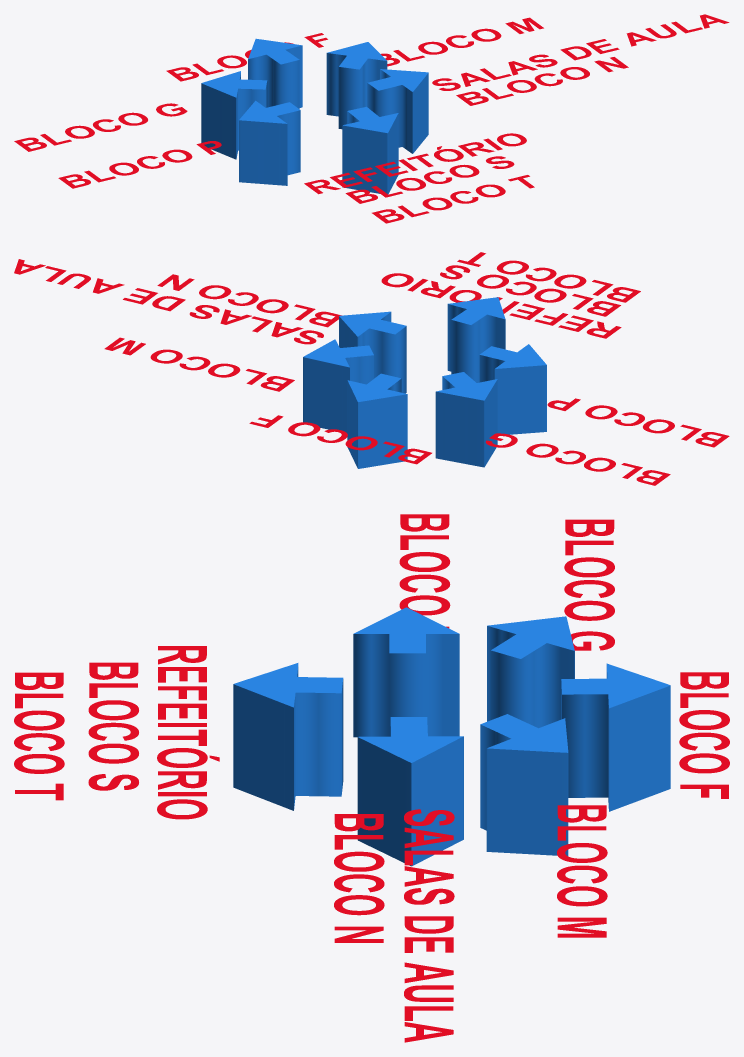
File: bloco O - 0.glb
The picture shows the model from 3 angles, top to bottom: view 1: azimuth 30°, elevation 25°; view 2: azimuth 150°, elevation 25°; view 3: azimuth 270°, elevation 25°; orthographic projection. The views are drawn at different scales.
Visible parts, largest first — view 1: Curve.002, Curve.004, Curve.003, Curve.001, Curve.006, Curve.005, Text.007, Text.012, Text.008, Text.003, Text.013, Text.001 (+3 smaller); view 2: Curve.003, Curve.005, Curve.002, Curve.006, Curve.004, Curve.001, Text.007, Text.012, Text.005, Text.003, Text.008, Text.013 (+3 smaller); view 3: Curve.004, Curve.005, Curve.001, Curve.002, Curve.006, Curve.003, Text.007, Text.012, Text.005, Text.008, Text.013, Text.003 (+3 smaller).
Boxes of the visible parts, x1=… form: Curve.002: x1=239, y1=100, x2=300, y2=185; Curve.004: x1=342, y1=106, x2=398, y2=194; Curve.003: x1=201, y1=71, x2=267, y2=159; Curve.001: x1=367, y1=69, x2=428, y2=153; Curve.006: x1=326, y1=42, x2=387, y2=129; Curve.005: x1=248, y1=38, x2=302, y2=108; Text.007: x1=432, y1=14, x2=729, y2=90; Text.012: x1=304, y1=133, x2=526, y2=194; Text.008: x1=456, y1=57, x2=628, y2=105; Text.003: x1=14, y1=103, x2=187, y2=151; Text.013: x1=345, y1=156, x2=514, y2=203; Text.001: x1=58, y1=141, x2=221, y2=188; Curve.003: x1=435, y1=372, x2=497, y2=467; Curve.005: x1=347, y1=373, x2=407, y2=468; Curve.002: x1=479, y1=344, x2=546, y2=434; Curve.006: x1=303, y1=339, x2=373, y2=432; Curve.004: x1=447, y1=297, x2=505, y2=382; Curve.001: x1=339, y1=311, x2=406, y2=393; Text.007: x1=14, y1=259, x2=323, y2=344; Text.012: x1=381, y1=273, x2=621, y2=338; Text.005: x1=104, y1=337, x2=294, y2=391; Text.003: x1=485, y1=433, x2=670, y2=485; Text.008: x1=157, y1=274, x2=341, y2=327; Text.013: x1=440, y1=265, x2=620, y2=316; Curve.004: x1=233, y1=663, x2=343, y2=810; Curve.005: x1=561, y1=663, x2=670, y2=811; Curve.001: x1=357, y1=717, x2=463, y2=866; Curve.002: x1=353, y1=607, x2=459, y2=737; Curve.006: x1=480, y1=714, x2=568, y2=855; Curve.003: x1=487, y1=616, x2=574, y2=728; Text.007: x1=404, y1=809, x2=454, y2=1042; Text.012: x1=157, y1=646, x2=219, y2=819; Text.005: x1=557, y1=805, x2=607, y2=937; Text.008: x1=334, y1=814, x2=384, y2=942; Text.013: x1=88, y1=662, x2=138, y2=790; Text.003: x1=564, y1=519, x2=614, y2=650.
Size of the model in its own units: 3.88 by 0.3596 by 2.19.
